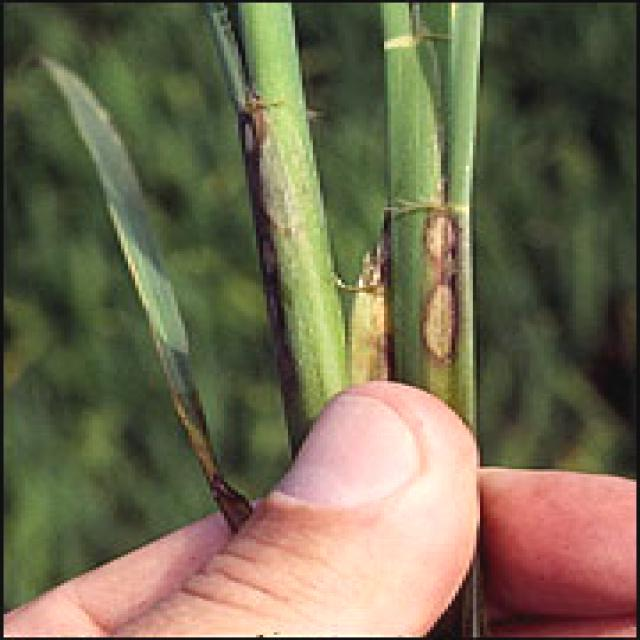Bacterial_Leaf_Blight: (238, 101, 298, 345), (413, 201, 464, 369), (352, 261, 394, 381)
